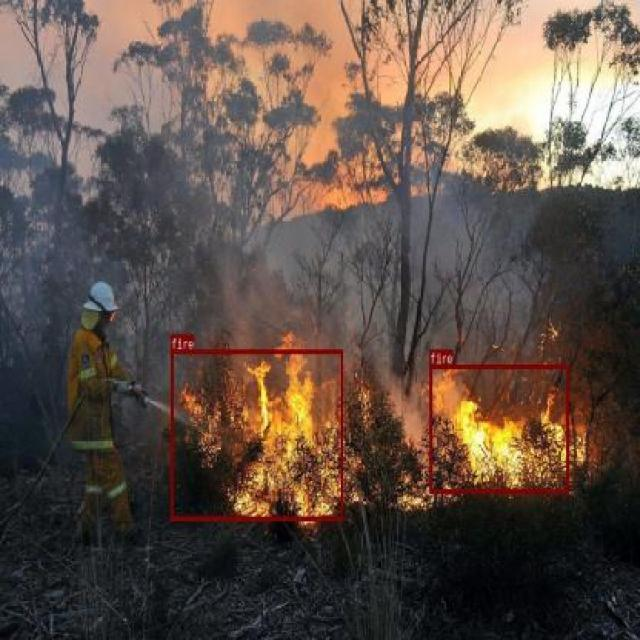Fire: (170, 349, 342, 520), (429, 364, 568, 492)
Smoke: (172, 178, 568, 320)
